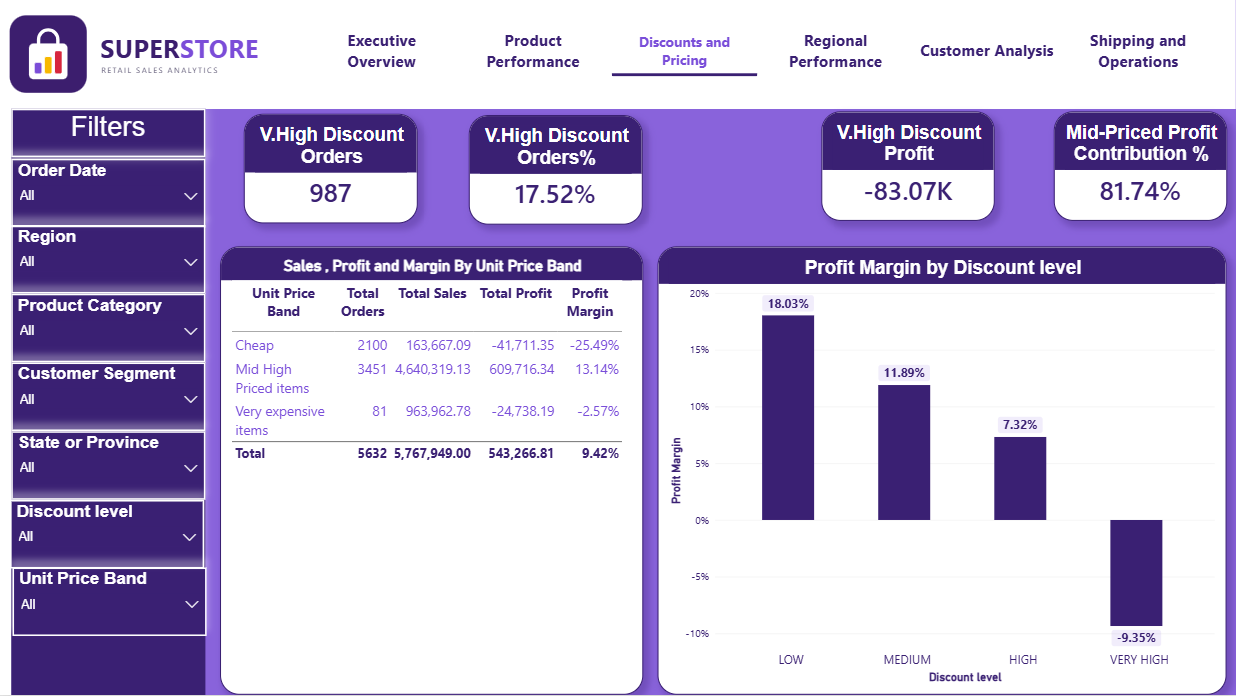

What the dashboard file says about the page in this screenshot:
{"tool":"powerbi","page":{"name":"Discounts and Pricing","canvas":[1920,1080],"ordinal":3},"visuals":[{"type":"shape","box":[0,140.9,18.8,939.1],"z":0},{"type":"shape","title":"Super Store Analysis Dashboard","box":[0,0,1919.6,169.3],"z":1000},{"type":"image","box":[0,0,479.5,168.1],"z":2000},{"type":"pageNavigator","box":[480.4,38.7,1404.3,81],"z":3000},{"type":"shape","box":[18.4,169,301.8,911],"z":4000},{"type":"textbox","box":[18.4,169.3,301.8,75.5],"z":5000},{"type":"slicer","fields":{"Values":["Final Sales Data.Order Date"]},"box":[18.4,246.6,301.8,106.7],"z":6000},{"type":"slicer","fields":{"Values":["Customers Data.Region"]},"box":[18.4,349.7,301.8,106.7],"z":7000},{"type":"slicer","fields":{"Values":["Products Data.Product Category"]},"box":[18.4,456.4,301.8,106.7],"z":8000},{"type":"slicer","fields":{"Values":["Customers Data.Customer Segment"]},"box":[18.4,563.2,301.8,106.7],"z":9000},{"type":"slicer","fields":{"Values":["Customers Data.State or Province"]},"box":[18.4,669.9,301.8,106.7],"z":10000},{"type":"clusteredColumnChart","fields":{"Category":["Final Sales Data.Discount level"],"Y":["Measures Table.Profit Margin"]},"box":[1022,382,884.2,697.1],"z":11000},{"type":"tableEx","title":"Sales , Profit and Margin By Unit Price Band","fields":{"Values":["Final Sales Data.Unit Price Band","Measures Table.Total Orders","Measures Table.Total Sales","Measures Table.Total Profit","Measures Table.Profit Margin"]},"box":[342.6,382,657.7,697.1],"z":12000},{"type":"card","title":"V.High Discount Orders","fields":{"Values":["Measures Table.High Discount Lines"]},"box":[378.1,177.2,270,170],"z":13000},{"type":"card","title":"V.High Discount Orders%","fields":{"Values":["Measures Table.High Discount Lines %"]},"box":[728.6,179.2,270,170],"z":14000},{"type":"card","title":"V.High Discount Profit","fields":{"Values":["Measures Table.High Discount Profit"]},"box":[1276.1,173.3,269.4,170],"z":15000},{"type":"card","title":"Mid-Priced Profit Contribution %","fields":{"Values":["Measures Table.Mid-Priced Profit Contribution %"]},"box":[1636.4,173.3,269.4,170],"z":16000},{"type":"slicer","fields":{"Values":["Final Sales Data.Discount level"]},"box":[15.8,775.9,301.8,106.7],"z":17000},{"type":"slicer","fields":{"Values":["Final Sales Data.Unit Price Band"]},"box":[19.7,882.2,301.8,106.7],"z":18000}]}

Visuals, with their boxes in screenshot pixels (x1, y1, x2, y2), scaled from the page's 1920x1080 canvas onto the 1236x696 screenshot:
shape: Rect(0, 91, 12, 695)
"Super Store Analysis Dashboard" shape: Rect(0, 0, 1235, 109)
image: Rect(0, 0, 309, 108)
pageNavigator: Rect(309, 25, 1213, 77)
shape: Rect(12, 109, 206, 695)
textbox: Rect(12, 109, 206, 158)
slicer - Final Sales Data.Order Date: Rect(12, 159, 206, 228)
slicer - Customers Data.Region: Rect(12, 225, 206, 294)
slicer - Products Data.Product Category: Rect(12, 294, 206, 363)
slicer - Customers Data.Customer Segment: Rect(12, 363, 206, 432)
slicer - Customers Data.State or Province: Rect(12, 432, 206, 500)
clusteredColumnChart - Final Sales Data.Discount level x Measures Table.Profit Margin: Rect(658, 246, 1227, 695)
"Sales , Profit and Margin By Unit Price Band" tableEx: Rect(221, 246, 644, 695)
"V.High Discount Orders" card: Rect(243, 114, 417, 224)
"V.High Discount Orders%" card: Rect(469, 115, 643, 225)
"V.High Discount Profit" card: Rect(821, 112, 995, 221)
"Mid-Priced Profit Contribution %" card: Rect(1053, 112, 1227, 221)
slicer - Final Sales Data.Discount level: Rect(10, 500, 204, 569)
slicer - Final Sales Data.Unit Price Band: Rect(13, 569, 207, 637)
